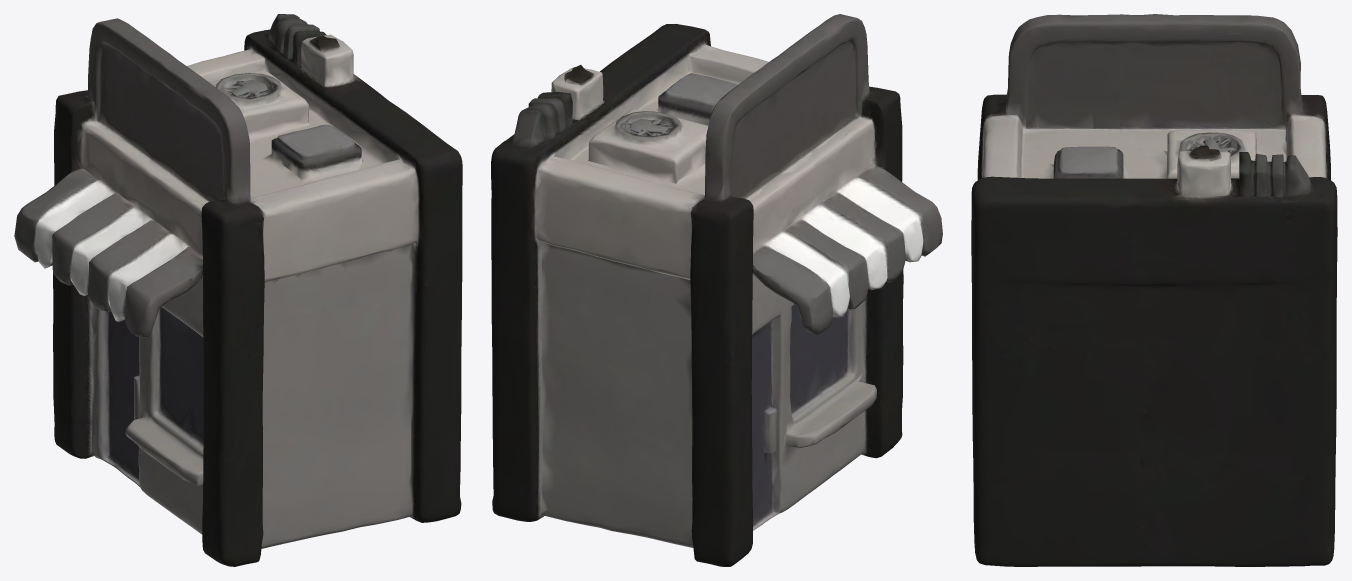
Rendered from market-locked.glb.
3 renders of one model, left to right at view 1: azimuth 30°, elevation 25°; view 2: azimuth 150°, elevation 25°; view 3: azimuth 270°, elevation 25°, orthographic.
Parts seen in each view (by area): view 1: tripo_node_e5e7f59c-bce6-4ebf-b350-2d081ca6eccb; view 2: tripo_node_e5e7f59c-bce6-4ebf-b350-2d081ca6eccb; view 3: tripo_node_e5e7f59c-bce6-4ebf-b350-2d081ca6eccb.
Boxes of the visible parts, <box> form: tripo_node_e5e7f59c-bce6-4ebf-b350-2d081ca6eccb: <box>14,14,462,566</box>; tripo_node_e5e7f59c-bce6-4ebf-b350-2d081ca6eccb: <box>491,14,942,566</box>; tripo_node_e5e7f59c-bce6-4ebf-b350-2d081ca6eccb: <box>971,14,1337,566</box>.
Bounding box in the file's own units: 0.7093 × 1 × 0.7392.
Materials: 1 (1 with a texture image).
